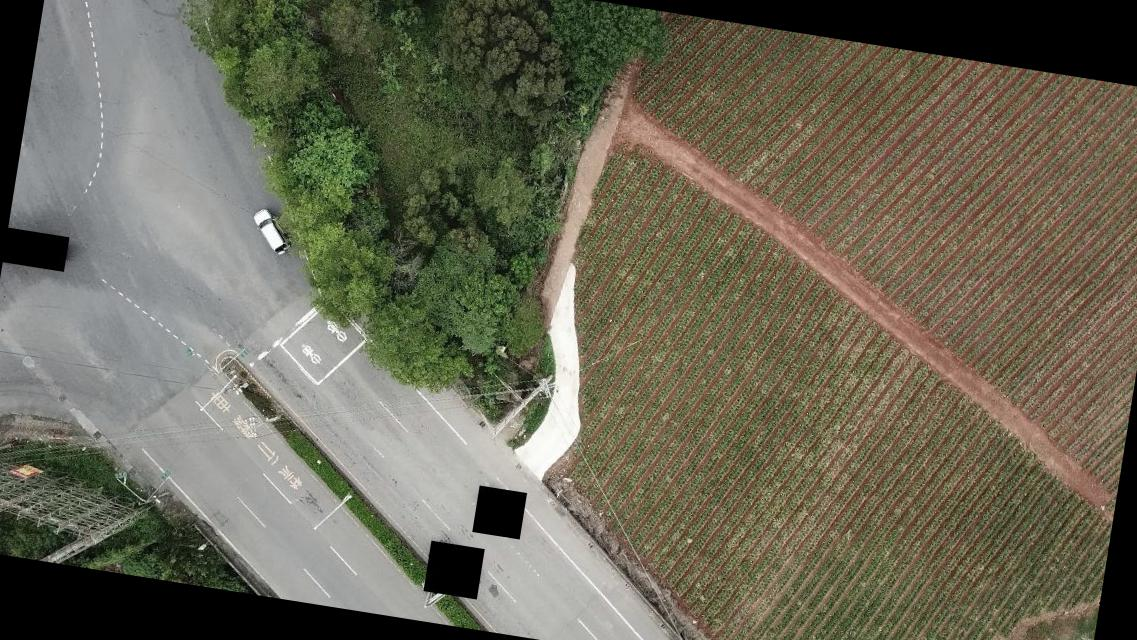vehicle: (246, 206, 296, 258)
